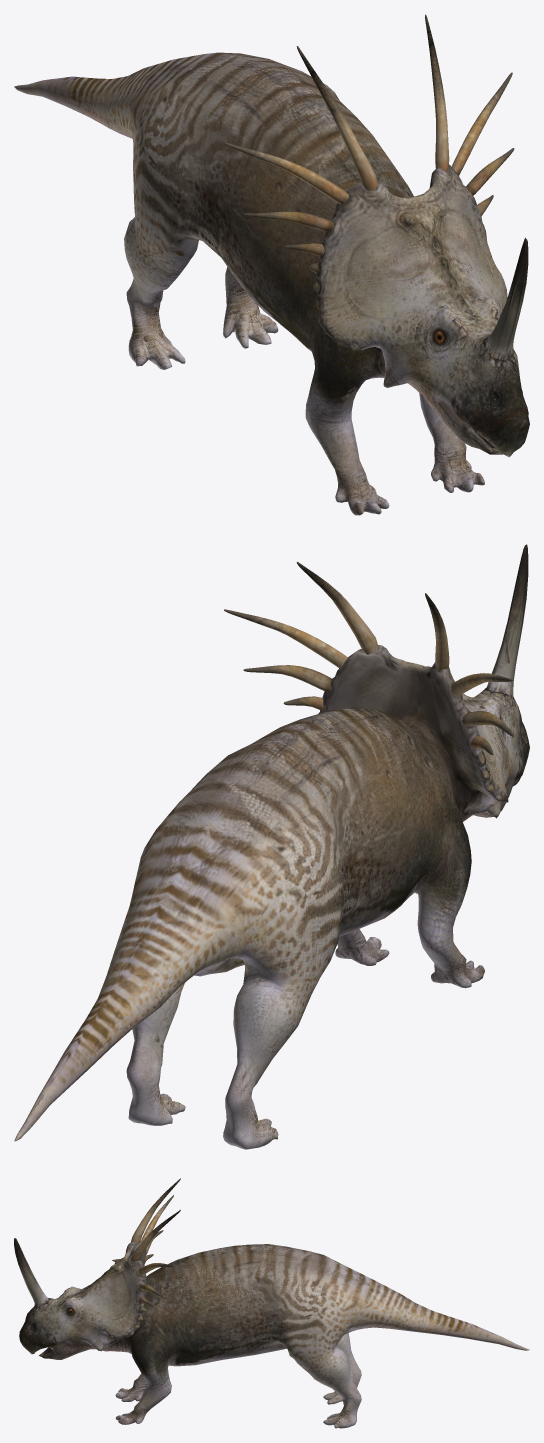
File: Styracosaurus.glb
3 views of the same model, one above another, from view 1: azimuth 30°, elevation 25°; view 2: azimuth 150°, elevation 25°; view 3: azimuth 270°, elevation 25° (orthographic). The views are drawn at different scales.
Parts seen in each view (by area): view 1: body; view 2: body; view 3: body.
Part boxes in pixels (x1,y1,x2,y2): body: (14,14,529,515); body: (14,544,529,1149); body: (14,1178,529,1428).
Size of the model in its own units: 1.38 by 1.98 by 4.23.
Materials: 1 (1 with a texture image).
